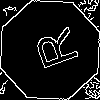R: (25, 25, 80, 75)
